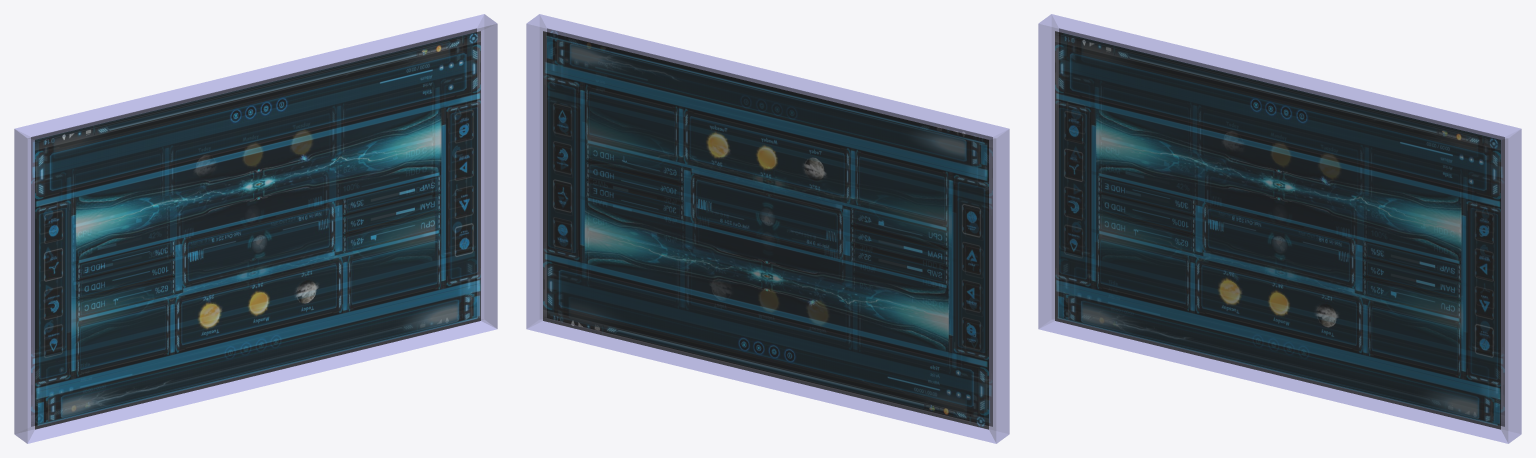
The picture shows the model from 3 angles, left to right: view 1: azimuth 30°, elevation 25°; view 2: azimuth 150°, elevation 25°; view 3: azimuth 330°, elevation 25°; orthographic projection.
Visible parts, largest first — view 1: pCube5; view 2: pCube5; view 3: pCube5.
Part boxes in pixels (x1,y1,x2,y2): pCube5: [14, 14, 497, 443]; pCube5: [526, 14, 1009, 443]; pCube5: [1038, 14, 1521, 443].
Bounding box in the file's own units: 10.53 × 6.54 × 0.5118.
2 materials, 1 textured.
